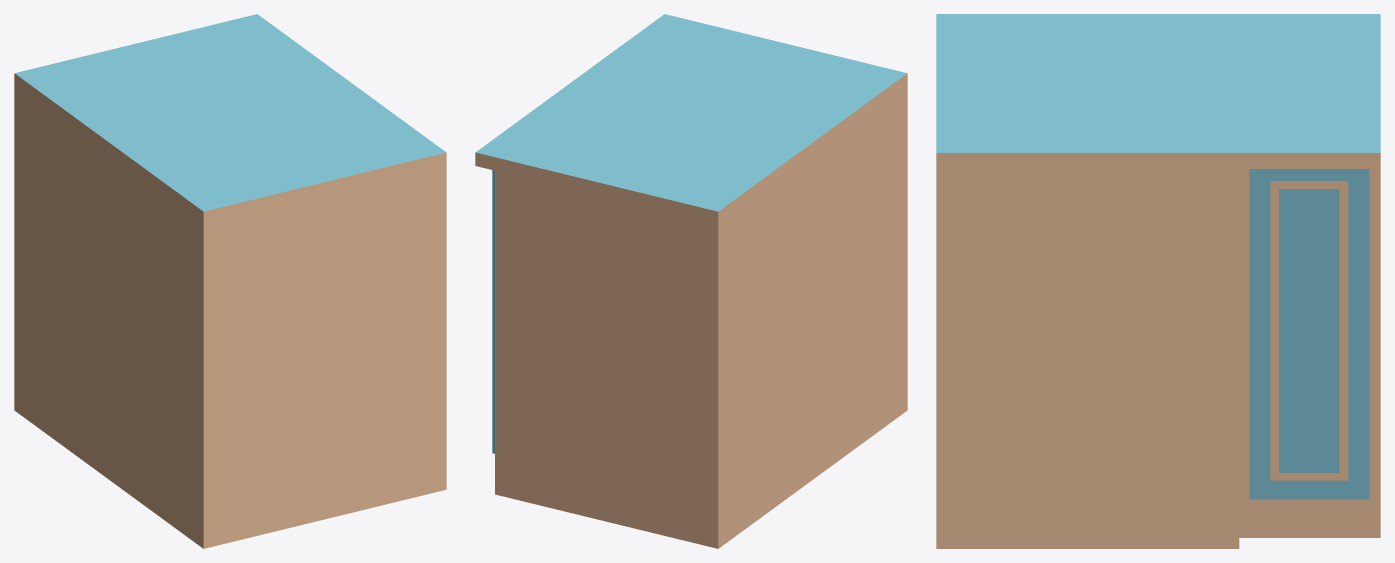
File: Cabinet Floor Corner Unit.fbx
3 renders of one model, left to right at view 1: azimuth 30°, elevation 25°; view 2: azimuth 150°, elevation 25°; view 3: azimuth 270°, elevation 25°, orthographic. The views are drawn at different scales.
Parts seen in each view (by area): view 1: Cabinet Floor Corner Unit; view 2: Cabinet Floor Corner Unit; view 3: Cabinet Floor Corner Unit.
Boxes of the visible parts, x1,y1,x2,y2 form: Cabinet Floor Corner Unit: [14, 14, 446, 548]; Cabinet Floor Corner Unit: [475, 14, 907, 548]; Cabinet Floor Corner Unit: [936, 14, 1380, 548].
Bounding box in the file's own units: 0.7178 × 0.9525 × 0.9684.
